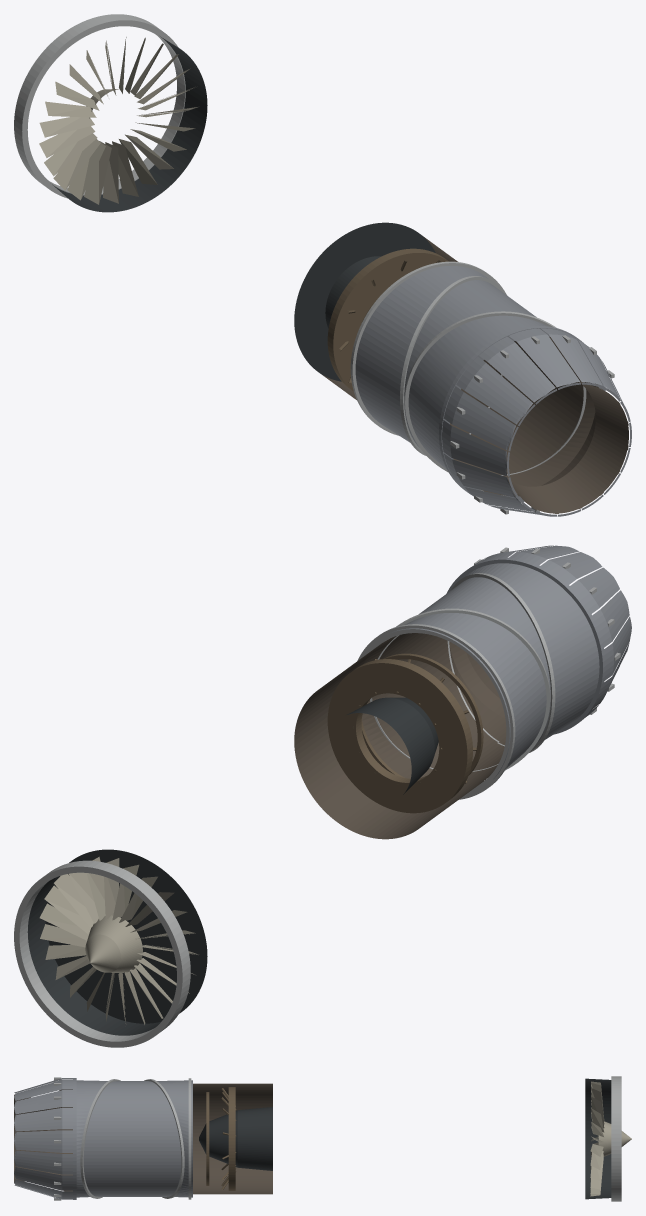
Rendered from F135-PW-600-installed.glb.
3 renders of one model, top to bottom at view 1: azimuth 30°, elevation 25°; view 2: azimuth 150°, elevation 25°; view 3: azimuth 270°, elevation 25°, orthographic. The views are drawn at different scales.
Visible parts, largest first — view 1: F135_OuterPanels, F135_FanFace, F135_ForwardSwivelShell, F135_Centerbody, F135_FlowPath, F135_AftSwivelShell, F135_InletLip, F135_CoreFacingAnnulus, F135_MiddleLiner, F135_IntakeOccluder, F135_MiddleSwivelShell, F135_ForwardBearingRings (+3 smaller); view 2: F135_CoreFacingAnnulus, F135_IntakeOccluder, F135_FanFace, F135_AugmentorLiner, F135_AftSwivelShell, F135_InletLip, F135_ForwardSwivelShell, F135_OuterPanels, F135_ForwardBearingRings, F135_MiddleLiner, F135_MiddleSwivelShell, F135_Centerbody (+5 smaller); view 3: F135_MiddleSwivelShell, F135_OuterPanels, F135_AugmentorLiner, F135_Centerbody, F135_IntakeOccluder, F135_FanFace, F135_ForwardSwivelShell, F135_CoreFacingAnnulus, F135_InletLip, F135_AftSwivelShell, F135_ForwardBearingRings, F135_MiddleBearingRings (+3 smaller).
Part boxes in pixels (box(x1,y1,x2,y2)): F135_OuterPanels: box(442, 328, 631, 516); F135_FanFace: box(39, 37, 197, 204); F135_ForwardSwivelShell: box(355, 266, 488, 442); F135_Centerbody: box(294, 222, 435, 381); F135_FlowPath: box(500, 381, 628, 513); F135_AftSwivelShell: box(408, 315, 547, 469); F135_InletLip: box(14, 14, 185, 198); F135_CoreFacingAnnulus: box(327, 248, 448, 391); F135_MiddleLiner: box(453, 337, 583, 474); F135_IntakeOccluder: box(52, 36, 207, 212); F135_MiddleSwivelShell: box(404, 280, 536, 447); F135_ForwardBearingRings: box(350, 261, 506, 455); F135_CoreFacingAnnulus: box(327, 653, 483, 813); F135_IntakeOccluder: box(27, 849, 207, 1035); F135_FanFace: box(39, 856, 198, 1024); F135_AugmentorLiner: box(294, 647, 478, 839); F135_AftSwivelShell: box(465, 563, 599, 739); F135_InletLip: box(14, 860, 190, 1047); F135_ForwardSwivelShell: box(387, 613, 546, 778); F135_OuterPanels: box(475, 545, 631, 717); F135_ForwardBearingRings: box(357, 608, 550, 799); F135_MiddleLiner: box(372, 633, 504, 770); F135_MiddleSwivelShell: box(419, 577, 550, 745); F135_Centerbody: box(347, 697, 438, 794); F135_MiddleSwivelShell: box(83, 1081, 181, 1196); F135_OuterPanels: box(14, 1078, 72, 1199); F135_AugmentorLiner: box(193, 1083, 272, 1194); F135_Centerbody: box(199, 1107, 272, 1170); F135_IntakeOccluder: box(585, 1078, 611, 1199); F135_FanFace: box(590, 1081, 631, 1196); F135_ForwardSwivelShell: box(157, 1080, 192, 1197); F135_CoreFacingAnnulus: box(206, 1087, 236, 1190); F135_InletLip: box(611, 1076, 621, 1201); F135_AftSwivelShell: box(76, 1080, 107, 1197); F135_ForwardBearingRings: box(145, 1078, 191, 1199); F135_MiddleBearingRings: box(80, 1079, 183, 1198).
Bounding box in the file's own units: 1.13 × 1.13 × 5.58.
